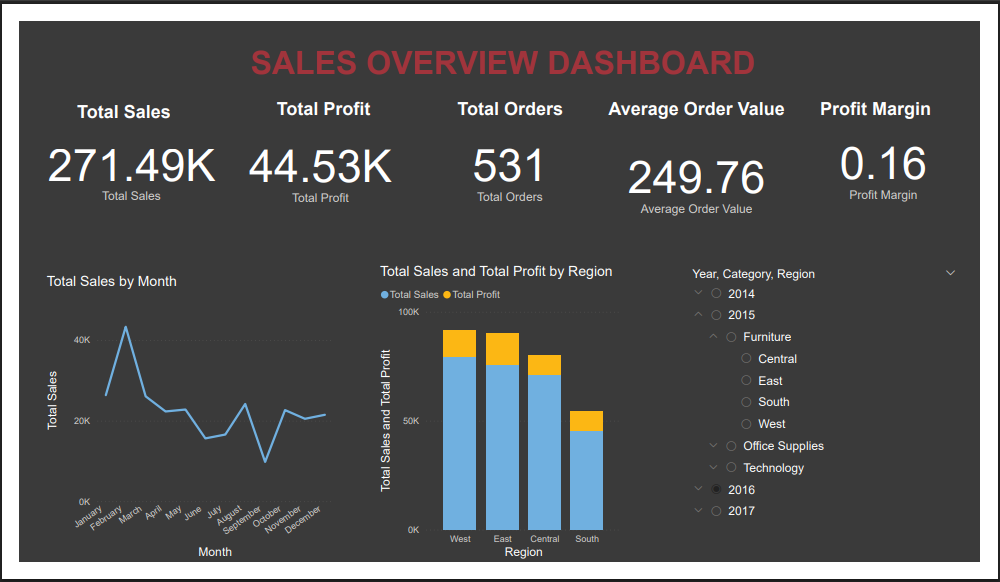

What the dashboard file says about the page in this screenshot:
{"tool":"powerbi","page":{"name":"Page 1","canvas":[1280,720],"ordinal":0},"visuals":[{"type":"card","fields":{"Values":["Sample - Superstore.Total Sales"]},"box":[32.6,137,234.8,117.4],"z":0},{"type":"textbox","box":[0,102,279.7,68],"z":1000},{"type":"textbox","box":[266.5,98.3,279.7,54.8],"z":2000},{"type":"card","fields":{"Values":["Sample - Superstore.Total Profit"]},"box":[279.7,139.8,243.8,115.3],"z":3000},{"type":"card","fields":{"Values":["Sample - Superstore.Total Orders"]},"box":[514,138,279.7,117.2],"z":4000},{"type":"textbox","box":[546.1,98.3,217.3,49.1],"z":5000},{"type":"card","fields":{"Values":["Sample - Superstore.Average Order Value"]},"box":[793.7,155,217.3,115.3],"z":6000},{"type":"card","fields":{"Values":["Sample - Superstore.Profit Margin"]},"box":[1043.2,138,217.3,111.5],"z":7000},{"type":"textbox","box":[780.5,98.3,262.7,56.7],"z":8000},{"type":"textbox","box":[1062.1,98.3,217.3,56.7],"z":9000},{"type":"lineChart","fields":{"Category":["Sample - Superstore.Order Date.Variation.Date Hierarchy.Month","Sample - Superstore.Order Date.Variation.Date Hierarchy.Day"],"Y":["Sample - Superstore.Total Sales"]},"box":[32.1,336.4,391.2,383.6],"z":10000},{"type":"columnChart","fields":{"Category":["Sample - Superstore.Region"],"Y":["Sample - Superstore.Total Sales","Sample - Superstore.Total Profit"]},"box":[476.2,323.2,330.7,396.9],"z":11000},{"type":"slicer","fields":{"Values":["Sample - Superstore.Order Date.Variation.Date Hierarchy.Year","Sample - Superstore.Category","Sample - Superstore.Region"]},"box":[884.4,323.2,376.1,396.9],"z":12000},{"type":"textbox","box":[200,26.1,889.1,71.7],"z":13000}]}

Visuals, with their boxes on the page's 1280x720 design canvas (x1, y1, x2, y2). These are canvas units, not pixel positions in the 1000x582 screenshot, which may show the page scaled, cropped or inside an application window:
card - Sample - Superstore.Total Sales: 33, 137, 267, 254
textbox: 0, 102, 280, 170
textbox: 266, 98, 546, 153
card - Sample - Superstore.Total Profit: 280, 140, 524, 255
card - Sample - Superstore.Total Orders: 514, 138, 794, 255
textbox: 546, 98, 763, 147
card - Sample - Superstore.Average Order Value: 794, 155, 1011, 270
card - Sample - Superstore.Profit Margin: 1043, 138, 1260, 250
textbox: 780, 98, 1043, 155
textbox: 1062, 98, 1279, 155
lineChart - Sample - Superstore.Order Date.Variation.Date Hierarchy.Month x Sample - Superstore.Order Date.Variation.Date Hierarchy.Day: 32, 336, 423, 720
columnChart - Sample - Superstore.Region x Sample - Superstore.Total Sales: 476, 323, 807, 720
slicer - Sample - Superstore.Order Date.Variation.Date Hierarchy.Year x Sample - Superstore.Category: 884, 323, 1260, 720
textbox: 200, 26, 1089, 98
